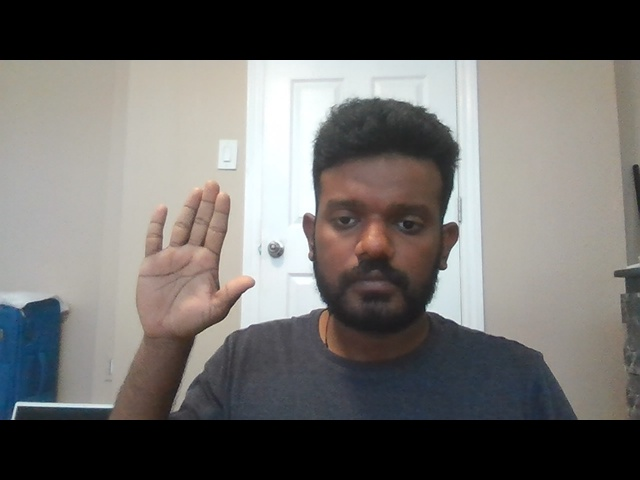hello: (133, 178, 256, 348)
